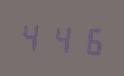four: (47, 18, 74, 56), (18, 17, 45, 54)
six: (75, 20, 102, 58)
